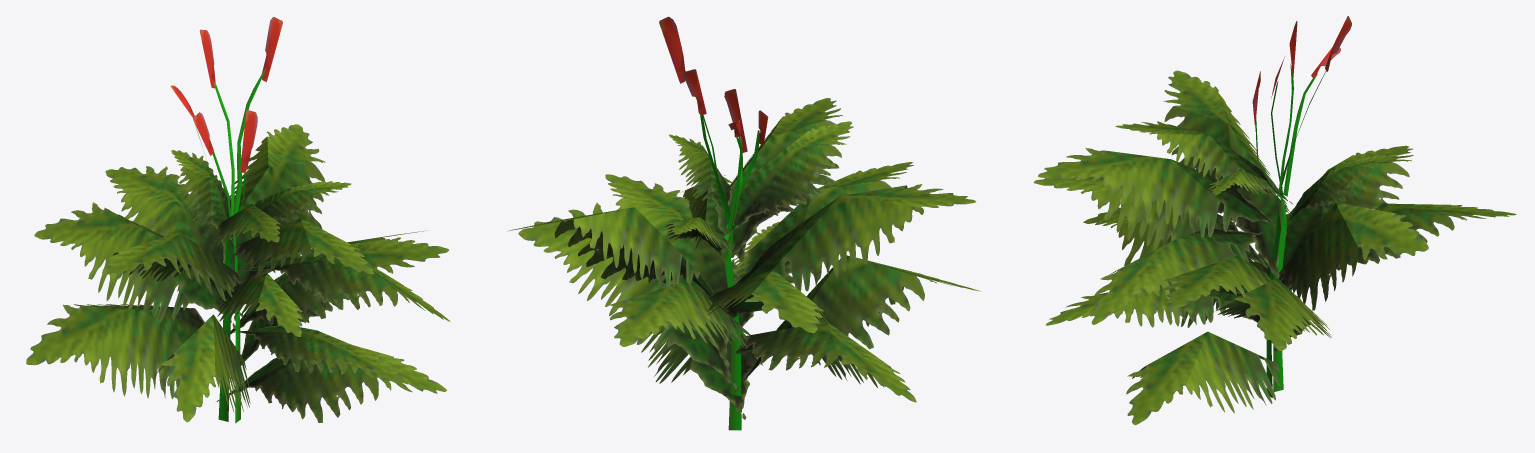
File: zz_cao_6.FBX
3 renders of one model, left to right at view 1: azimuth 30°, elevation 25°; view 2: azimuth 150°, elevation 25°; view 3: azimuth 270°, elevation 25°, orthographic. The views are drawn at different scales.
Visible parts, largest first — view 1: zz_cao_6; view 2: zz_cao_6; view 3: zz_cao_6.
Boxes of the visible parts, x1,y1,x2,y2 form: zz_cao_6: (26, 17, 450, 423); zz_cao_6: (507, 16, 980, 430); zz_cao_6: (1033, 16, 1516, 424).
Bounding box in the file's own units: 325 × 293 × 326.
